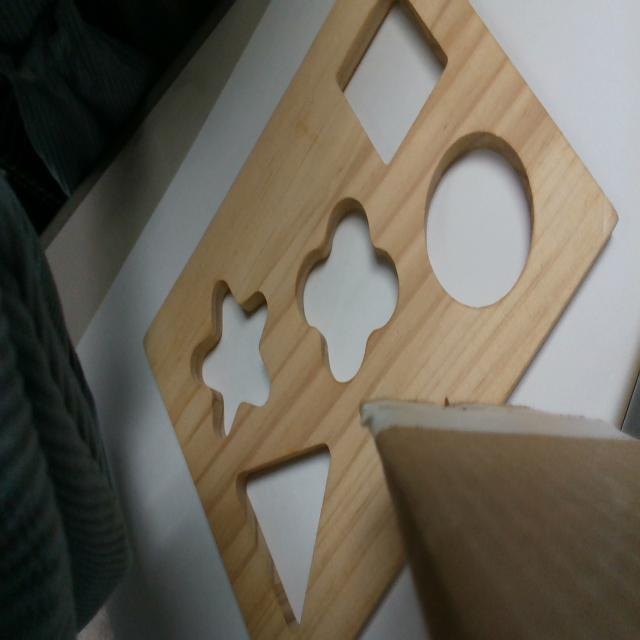circle: (427, 132, 536, 305)
flower: (294, 198, 399, 385)
square: (333, 3, 450, 169)
star: (189, 278, 271, 441)
triangle: (231, 440, 333, 635)
